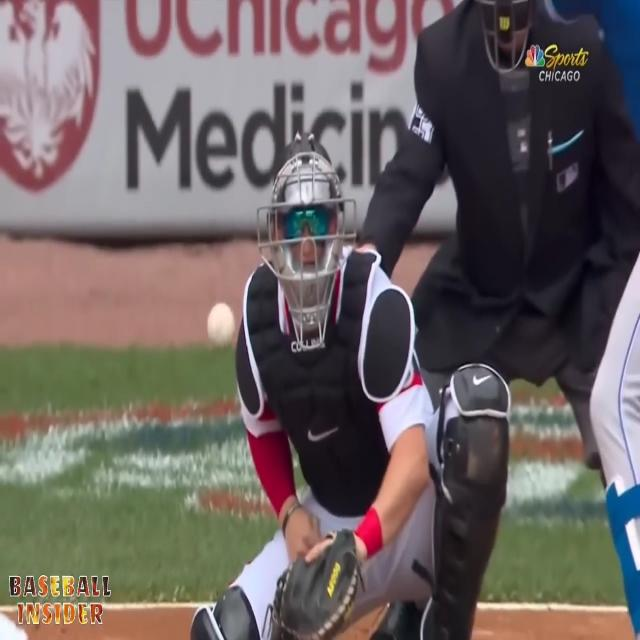baseball: (208, 302, 235, 349)
